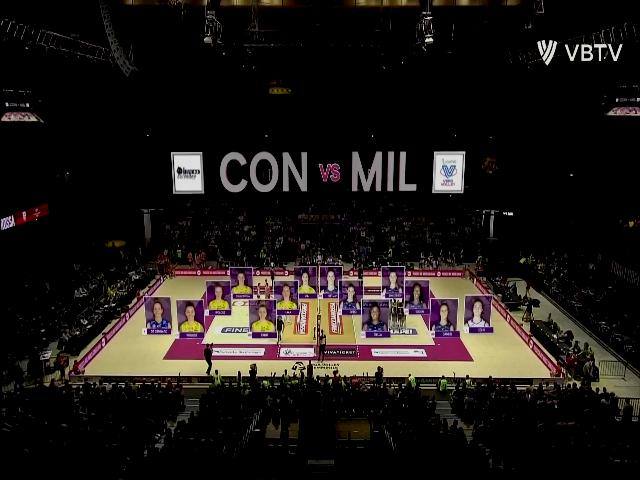volleyball court: (202, 292, 436, 349)
